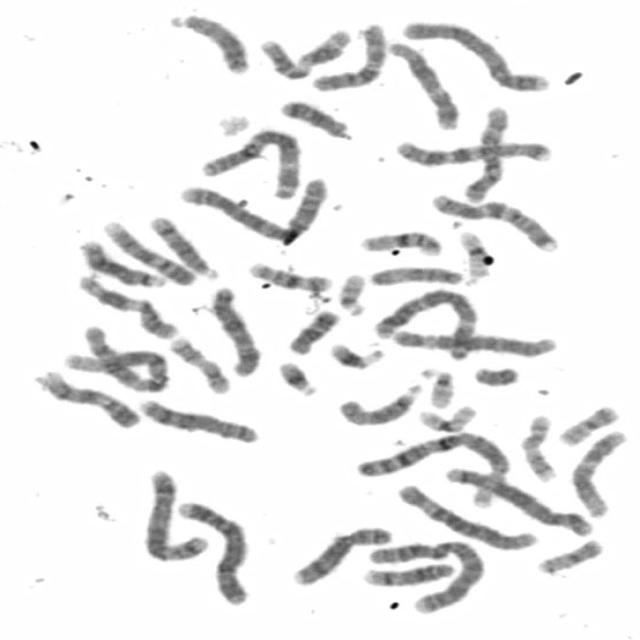A1: (356, 428, 513, 505), (69, 322, 170, 395)
A2: (177, 174, 329, 244), (362, 536, 488, 614)
A3: (371, 286, 480, 358), (198, 127, 302, 199)
B4: (400, 17, 551, 94), (172, 497, 252, 607)
B5: (440, 464, 594, 536), (139, 467, 210, 561)
C10: (308, 20, 390, 93), (457, 104, 512, 203)
C11: (74, 271, 181, 341), (255, 26, 352, 81)
C12: (385, 38, 462, 133), (566, 428, 629, 518)
C6: (394, 482, 537, 551), (386, 326, 559, 360)
C7: (428, 191, 559, 252), (390, 136, 554, 168)
C8: (287, 522, 395, 588), (134, 396, 261, 446)
C9: (100, 218, 196, 287), (35, 369, 141, 430)
D13: (165, 10, 251, 75), (75, 241, 166, 289)
D14: (144, 216, 220, 282), (359, 560, 455, 588)
D15: (338, 382, 423, 428), (366, 264, 466, 286)
E16: (244, 258, 334, 292), (357, 229, 444, 257)
E17: (166, 334, 232, 395), (519, 415, 559, 483)
E18: (276, 100, 354, 140), (284, 307, 341, 356)
F19: (415, 402, 477, 433), (458, 230, 489, 280)
F20: (538, 535, 606, 577), (555, 406, 619, 446)
G21: (274, 358, 321, 396), (327, 344, 386, 372)
G22: (335, 272, 369, 316), (422, 366, 456, 410)
X: (207, 288, 262, 379)
Y: (468, 364, 522, 388)
